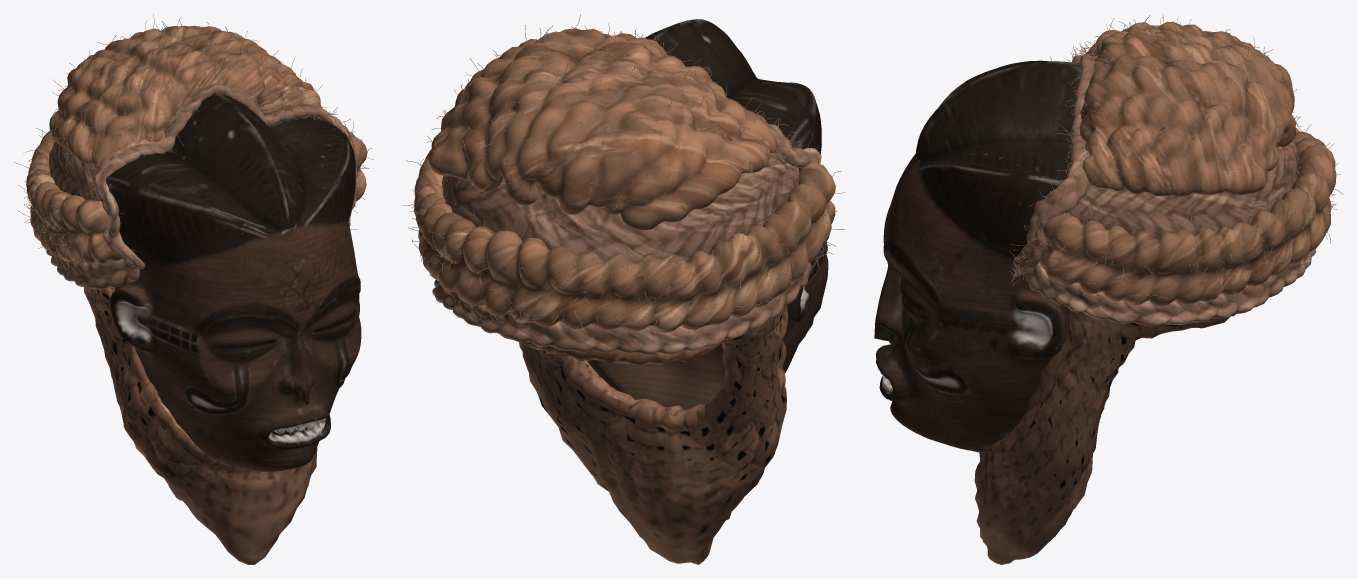
File: likishi.glb
3 views of the same model, side by side, from view 1: azimuth 30°, elevation 25°; view 2: azimuth 150°, elevation 25°; view 3: azimuth 270°, elevation 25° (orthographic). The views are drawn at different scales.
Visible parts, largest first — view 1: Mask, Braid Lining; view 2: Braid Lining, Mask; view 3: Braid Lining, Mask.
Boxes of the visible parts, <box> form: Mask: <box>106,92,361,471</box>; Braid Lining: <box>14,14,373,564</box>; Braid Lining: <box>402,14,845,564</box>; Mask: <box>587,19,828,410</box>; Braid Lining: <box>880,14,1343,564</box>; Mask: <box>874,60,1081,453</box>.
Size of the model in its own units: 2 by 2.95 by 2.36.
Materials: 1 (1 with a texture image).
